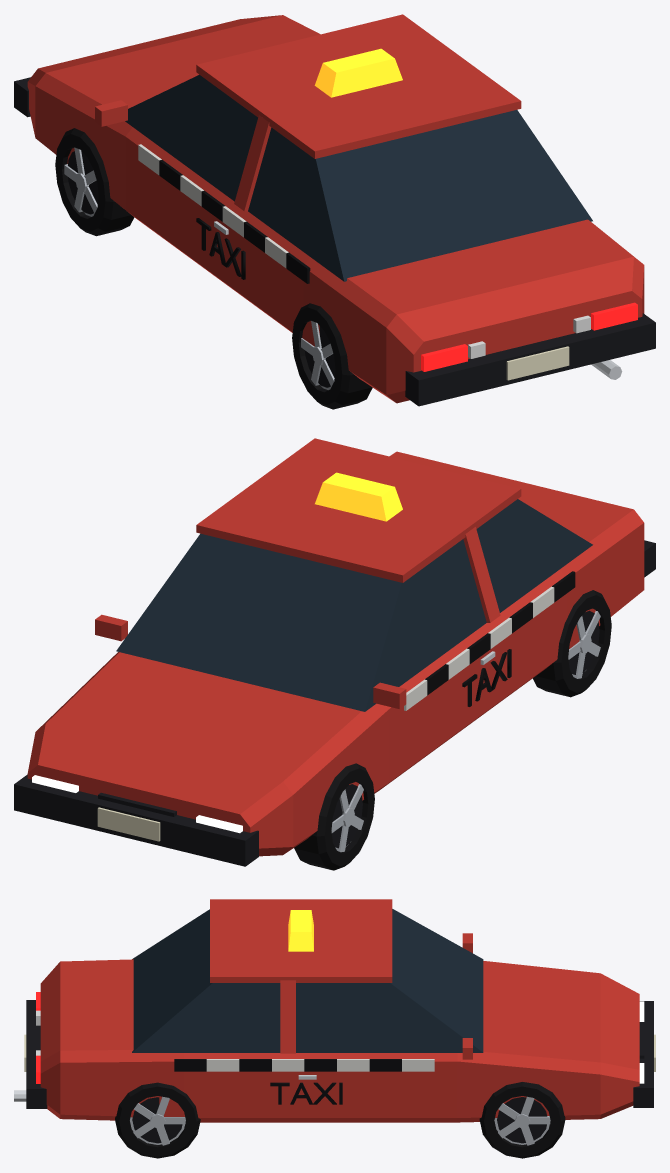
File: taxi.glb
3 views of the same model, one above another, from view 1: azimuth 30°, elevation 25°; view 2: azimuth 150°, elevation 25°; view 3: azimuth 270°, elevation 25° (orthographic). The views are drawn at different scales.
Parts seen in each view (by area): view 1: taxi_Top, taxi_Body, taxi_Wheel_FL, taxi_Wheel_RL, taxi_TxtL; view 2: taxi_Top, taxi_Body, taxi_Wheel_FL, taxi_Wheel_RL, taxi_TxtL; view 3: taxi_Top, taxi_Body, taxi_Wheel_FR, taxi_Wheel_RR, taxi_TxtR.
Part boxes in pixels (bbox=[...]): taxi_Top: bbox=[14, 14, 655, 406]; taxi_Body: bbox=[27, 15, 644, 403]; taxi_Wheel_FL: bbox=[55, 128, 134, 236]; taxi_Wheel_RL: bbox=[292, 303, 372, 409]; taxi_TxtL: bbox=[196, 218, 245, 279]; taxi_Top: bbox=[14, 438, 655, 866]; taxi_Body: bbox=[27, 451, 644, 856]; taxi_Wheel_FL: bbox=[294, 763, 374, 870]; taxi_Wheel_RL: bbox=[533, 590, 611, 697]; taxi_TxtL: bbox=[462, 649, 511, 706]; taxi_Top: bbox=[14, 899, 655, 1108]; taxi_Body: bbox=[40, 959, 639, 1122]; taxi_Wheel_FR: bbox=[479, 1082, 565, 1158]; taxi_Wheel_RR: bbox=[115, 1082, 200, 1158]; taxi_TxtR: bbox=[270, 1082, 342, 1104].
Bounding box in the file's own units: 2.08 × 1.6 × 4.93.
